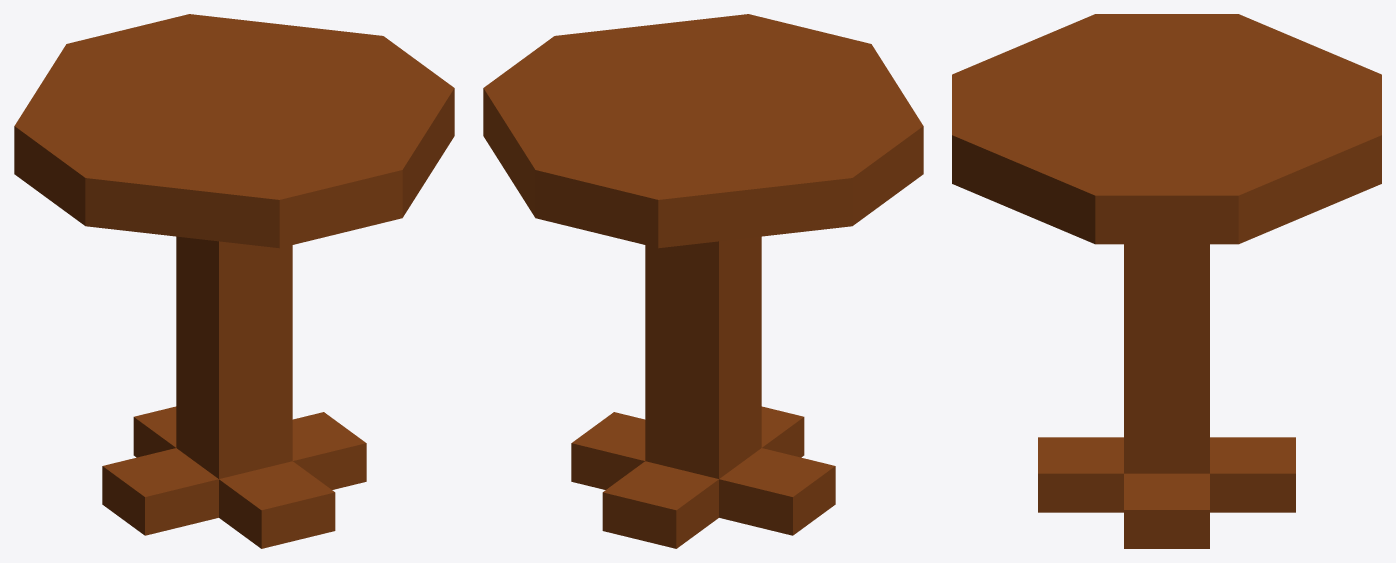
The model's file is Small Table 2.fbx.
The picture shows the model from 3 angles, left to right: view 1: azimuth 30°, elevation 25°; view 2: azimuth 150°, elevation 25°; view 3: azimuth 270°, elevation 25°; orthographic projection.
Visible parts, largest first — view 1: Small Table 2; view 2: Small Table 2; view 3: Small Table 2.
Part boxes in pixels (bbox=[...]): Small Table 2: bbox=[14, 14, 454, 548]; Small Table 2: bbox=[483, 14, 923, 548]; Small Table 2: bbox=[952, 14, 1381, 548].
Bounding box in the file's own units: 200 × 200 × 200.
